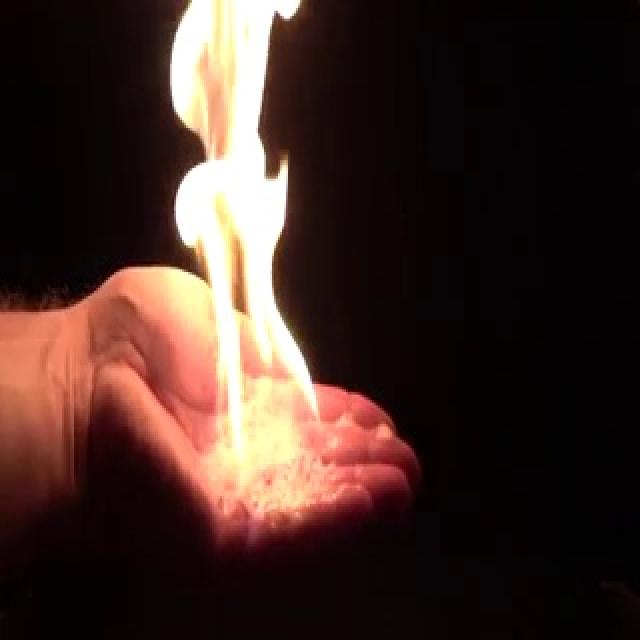fire: (162, 0, 325, 472)
